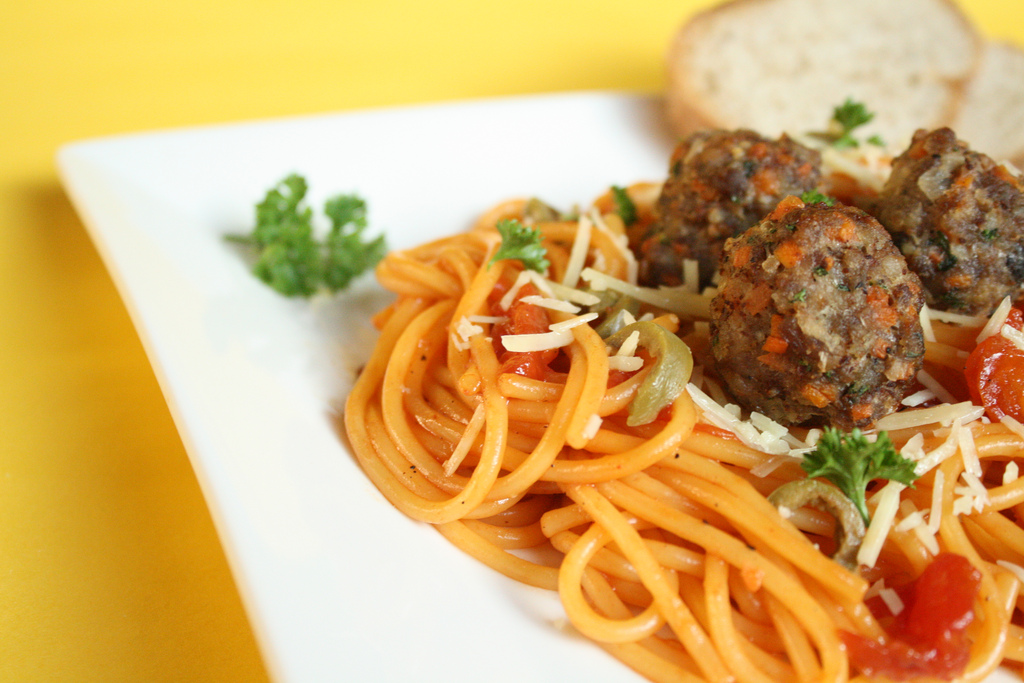meatballs: (711, 201, 939, 423), (656, 131, 829, 256), (889, 136, 1024, 291)
plain spaghetti: (391, 212, 681, 670), (675, 422, 1024, 674)
